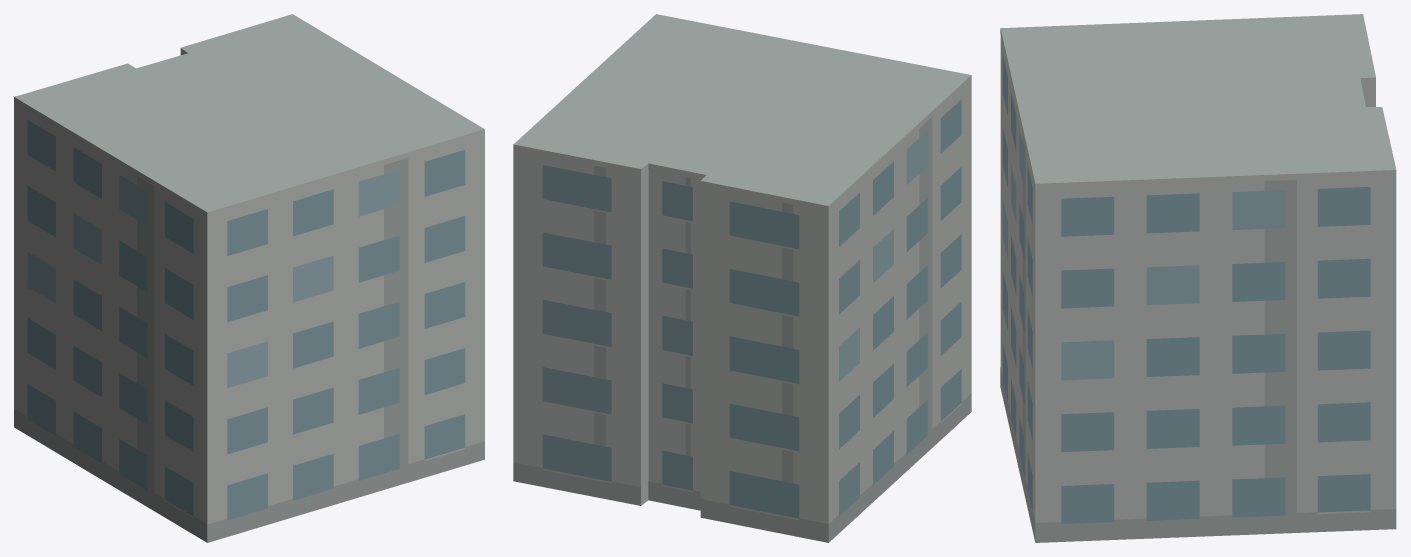
Rendered from survey-upis-32849483.glb.
The picture shows the model from 3 angles, left to right: view 1: azimuth 30°, elevation 25°; view 2: azimuth 150°, elevation 25°; view 3: azimuth 270°, elevation 25°; orthographic projection. The views are drawn at different scales.
Parts seen in each view (by area): view 1: survey-upis-32849483.tmp; view 2: survey-upis-32849483.tmp; view 3: survey-upis-32849483.tmp.
Part boxes in pixels (x1,y1,x2,y2): survey-upis-32849483.tmp: [14, 14, 484, 542]; survey-upis-32849483.tmp: [513, 14, 971, 542]; survey-upis-32849483.tmp: [1000, 14, 1396, 542].
Bounding box in the file's own units: 14.76 × 14.55 × 14.54.
